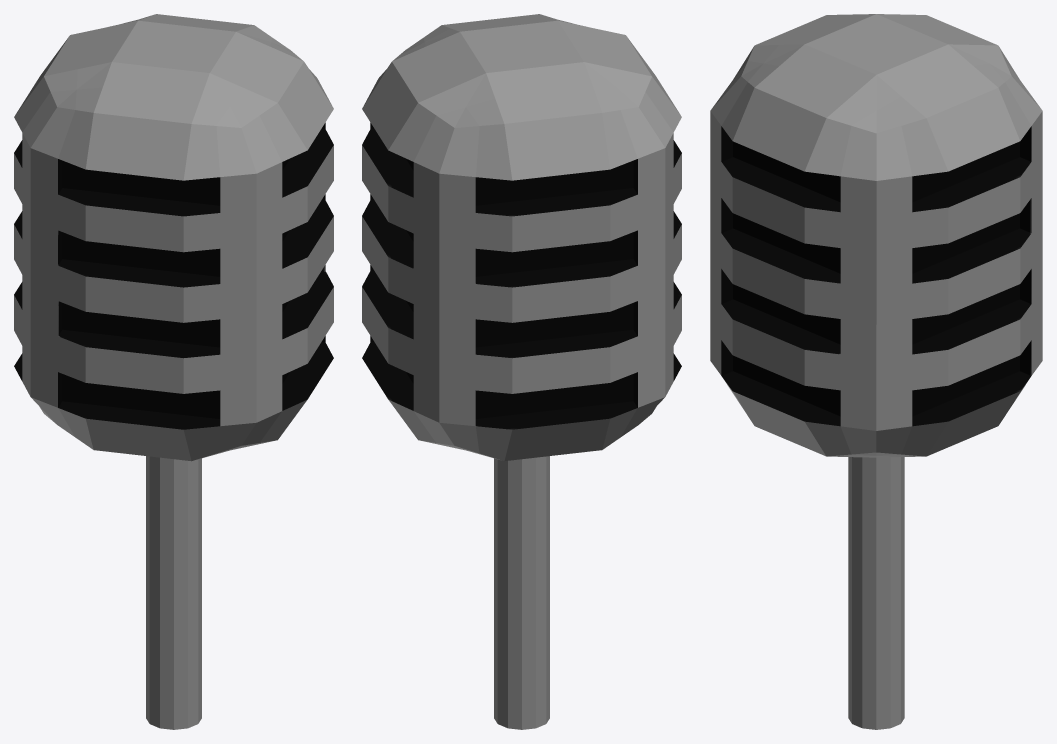
The model's file is Microphone.fbx.
The picture shows the model from 3 angles, left to right: view 1: azimuth 30°, elevation 25°; view 2: azimuth 150°, elevation 25°; view 3: azimuth 270°, elevation 25°; orthographic projection.
Visible parts, largest first — view 1: Cube.001; view 2: Cube.001; view 3: Cube.001.
Part boxes in pixels (x1,y1,x2,y2): Cube.001: [14, 14, 333, 729]; Cube.001: [362, 14, 681, 729]; Cube.001: [710, 14, 1042, 729].
Size of the model in its own units: 21.78 by 48.71 by 21.78.
